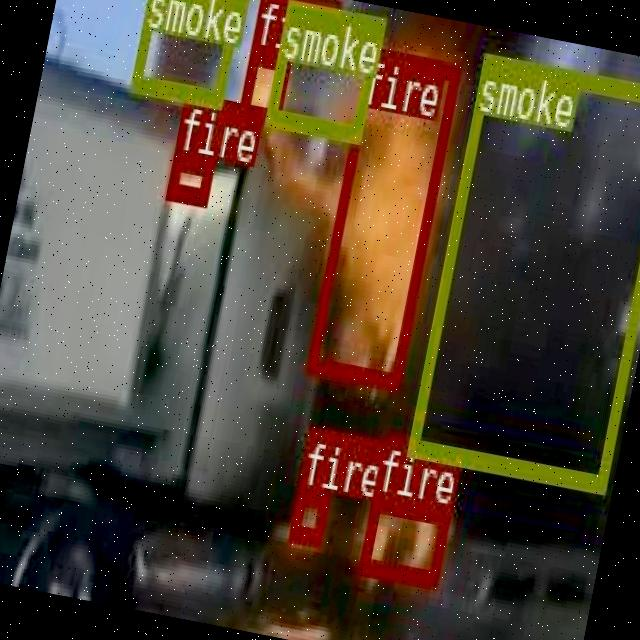fire: (306, 45, 460, 388), (358, 492, 450, 586), (237, 44, 290, 122), (166, 150, 213, 203), (288, 486, 329, 544)
smoke: (406, 50, 640, 490), (265, 0, 382, 140), (128, 0, 242, 106)
